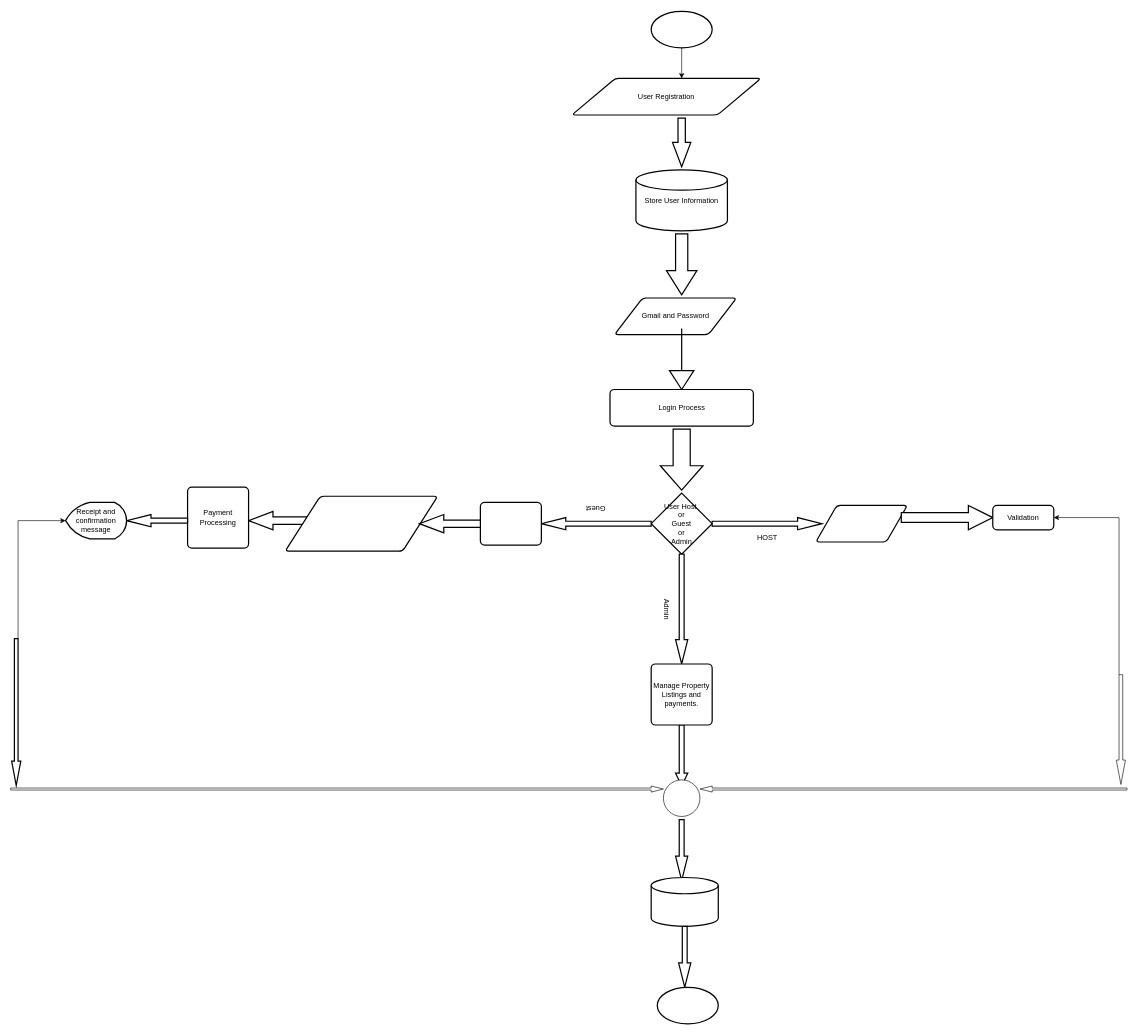
This 1138x1035 diagram has some shape labels left out. The centre of each missing label's shape, as x and y in pixels:
"All information is stored in our db" goes at (x=684, y=902).
"END" goes at (x=687, y=1005).
"Preferneces, start and end date, payment method" goes at (x=361, y=523).
"Property Listing" goes at (x=861, y=523).
"Search and book property" goes at (x=510, y=523).
"START" goes at (x=681, y=29).
